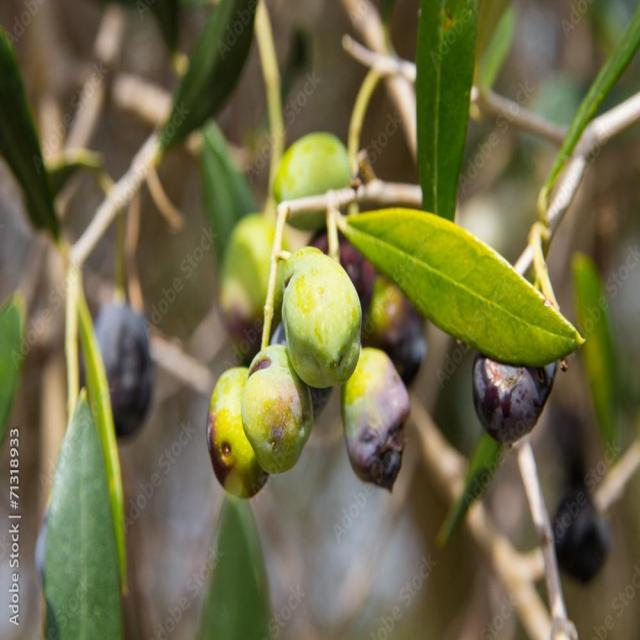Olive Fruit Fly: (342, 347, 410, 491), (242, 345, 313, 474), (206, 367, 268, 499), (470, 355, 557, 445)
